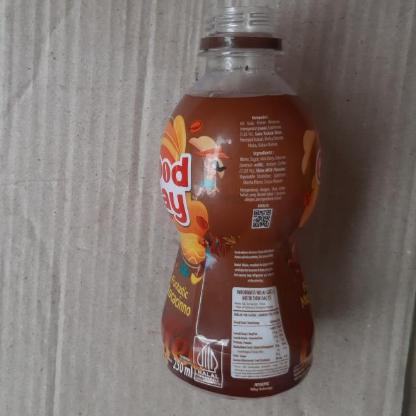Plastic Bottle: (162, 0, 349, 404)
